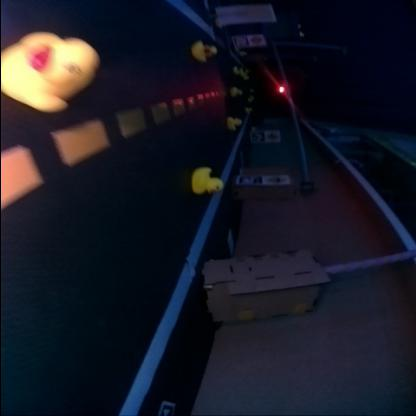Duckie: (2, 31, 99, 111), (193, 166, 223, 192), (192, 40, 216, 62), (228, 116, 242, 128), (231, 86, 241, 94), (233, 66, 240, 74), (245, 107, 252, 112)
Intersection sign: (268, 176, 288, 182), (266, 132, 279, 140)
QR code: (238, 175, 262, 184), (158, 402, 174, 414), (233, 34, 246, 46), (251, 130, 263, 142)
Traffic light: (278, 85, 286, 93)
